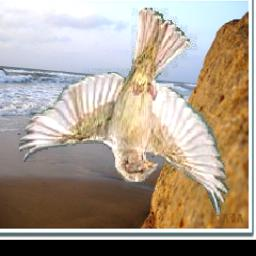Sparrow: (18, 8, 229, 215)
